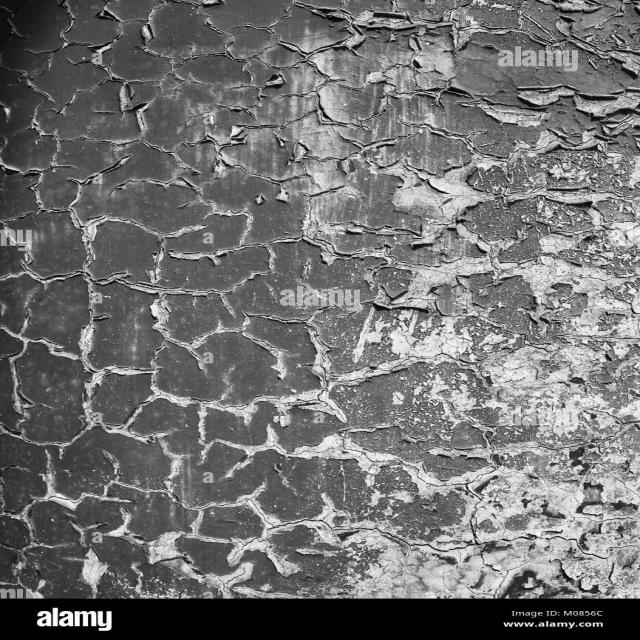peeling paint: (2, 0, 640, 601)
